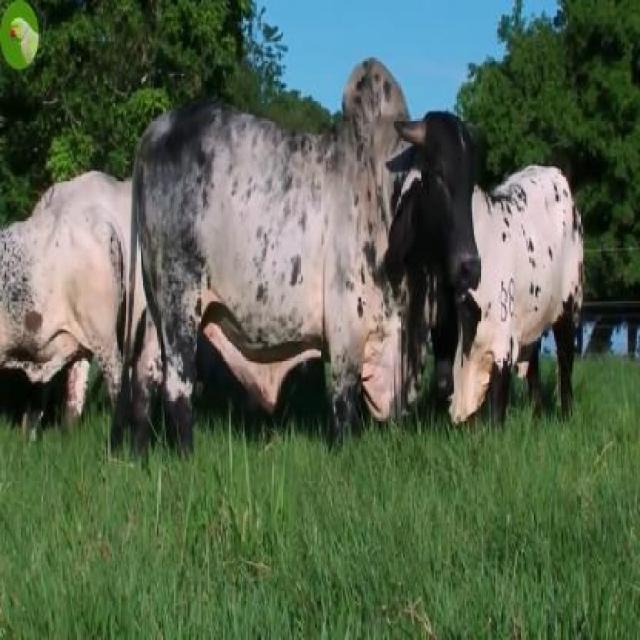Cow: (120, 58, 485, 474)
